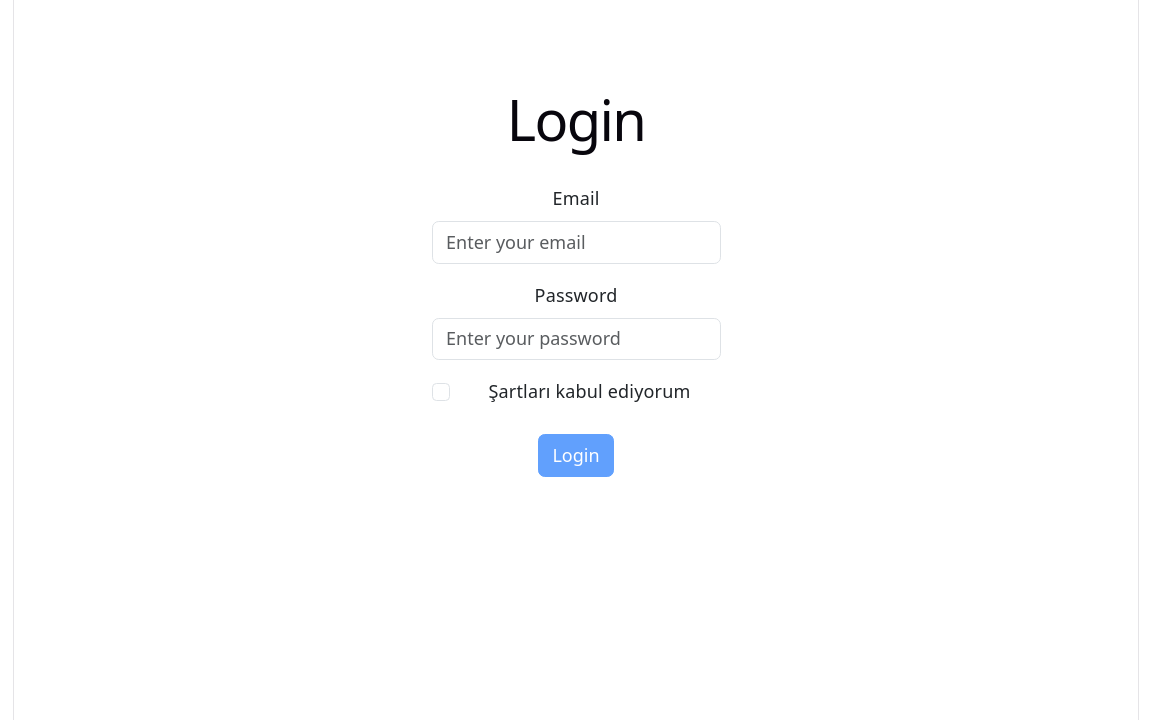
it: Login formu › email ve password yanlış girilince 2 hata mesajı görünüyor
In the field with id "email": (577, 243) [432,221,721,264], type "erdem@wit"
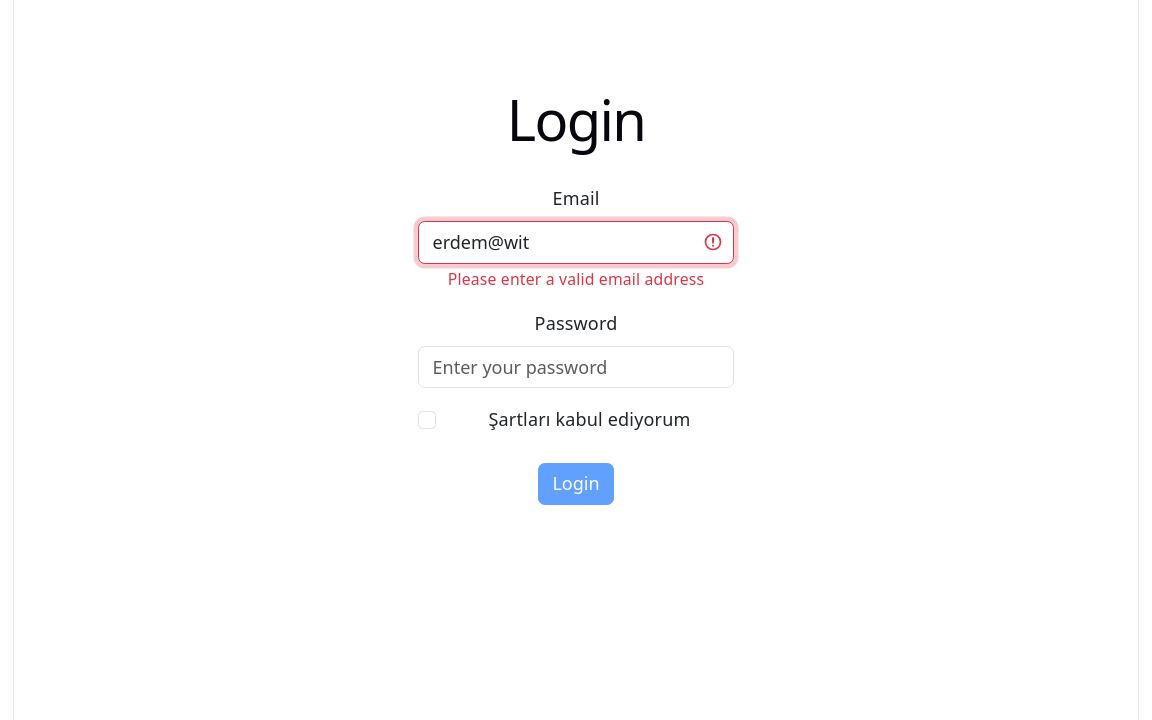
In the password field labelled "Password": (576, 368) [418,346,734,389], type "123"
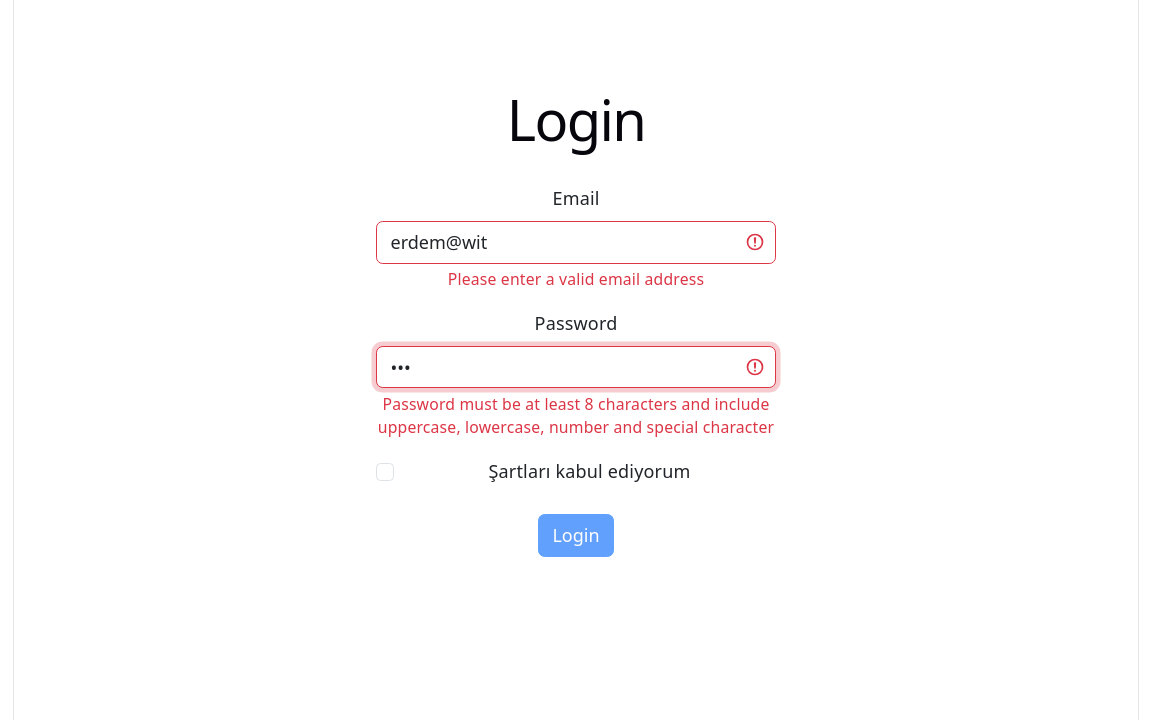
Expected: the submit button is disabled, [538,514,614,557]
Expected: the number of elements with class "invalid-feedback" is 2, [448,268,704,290]; [376,393,776,440]
Expected: the text "Password must be at least 8 characters" is shown, [378,393,774,439]
